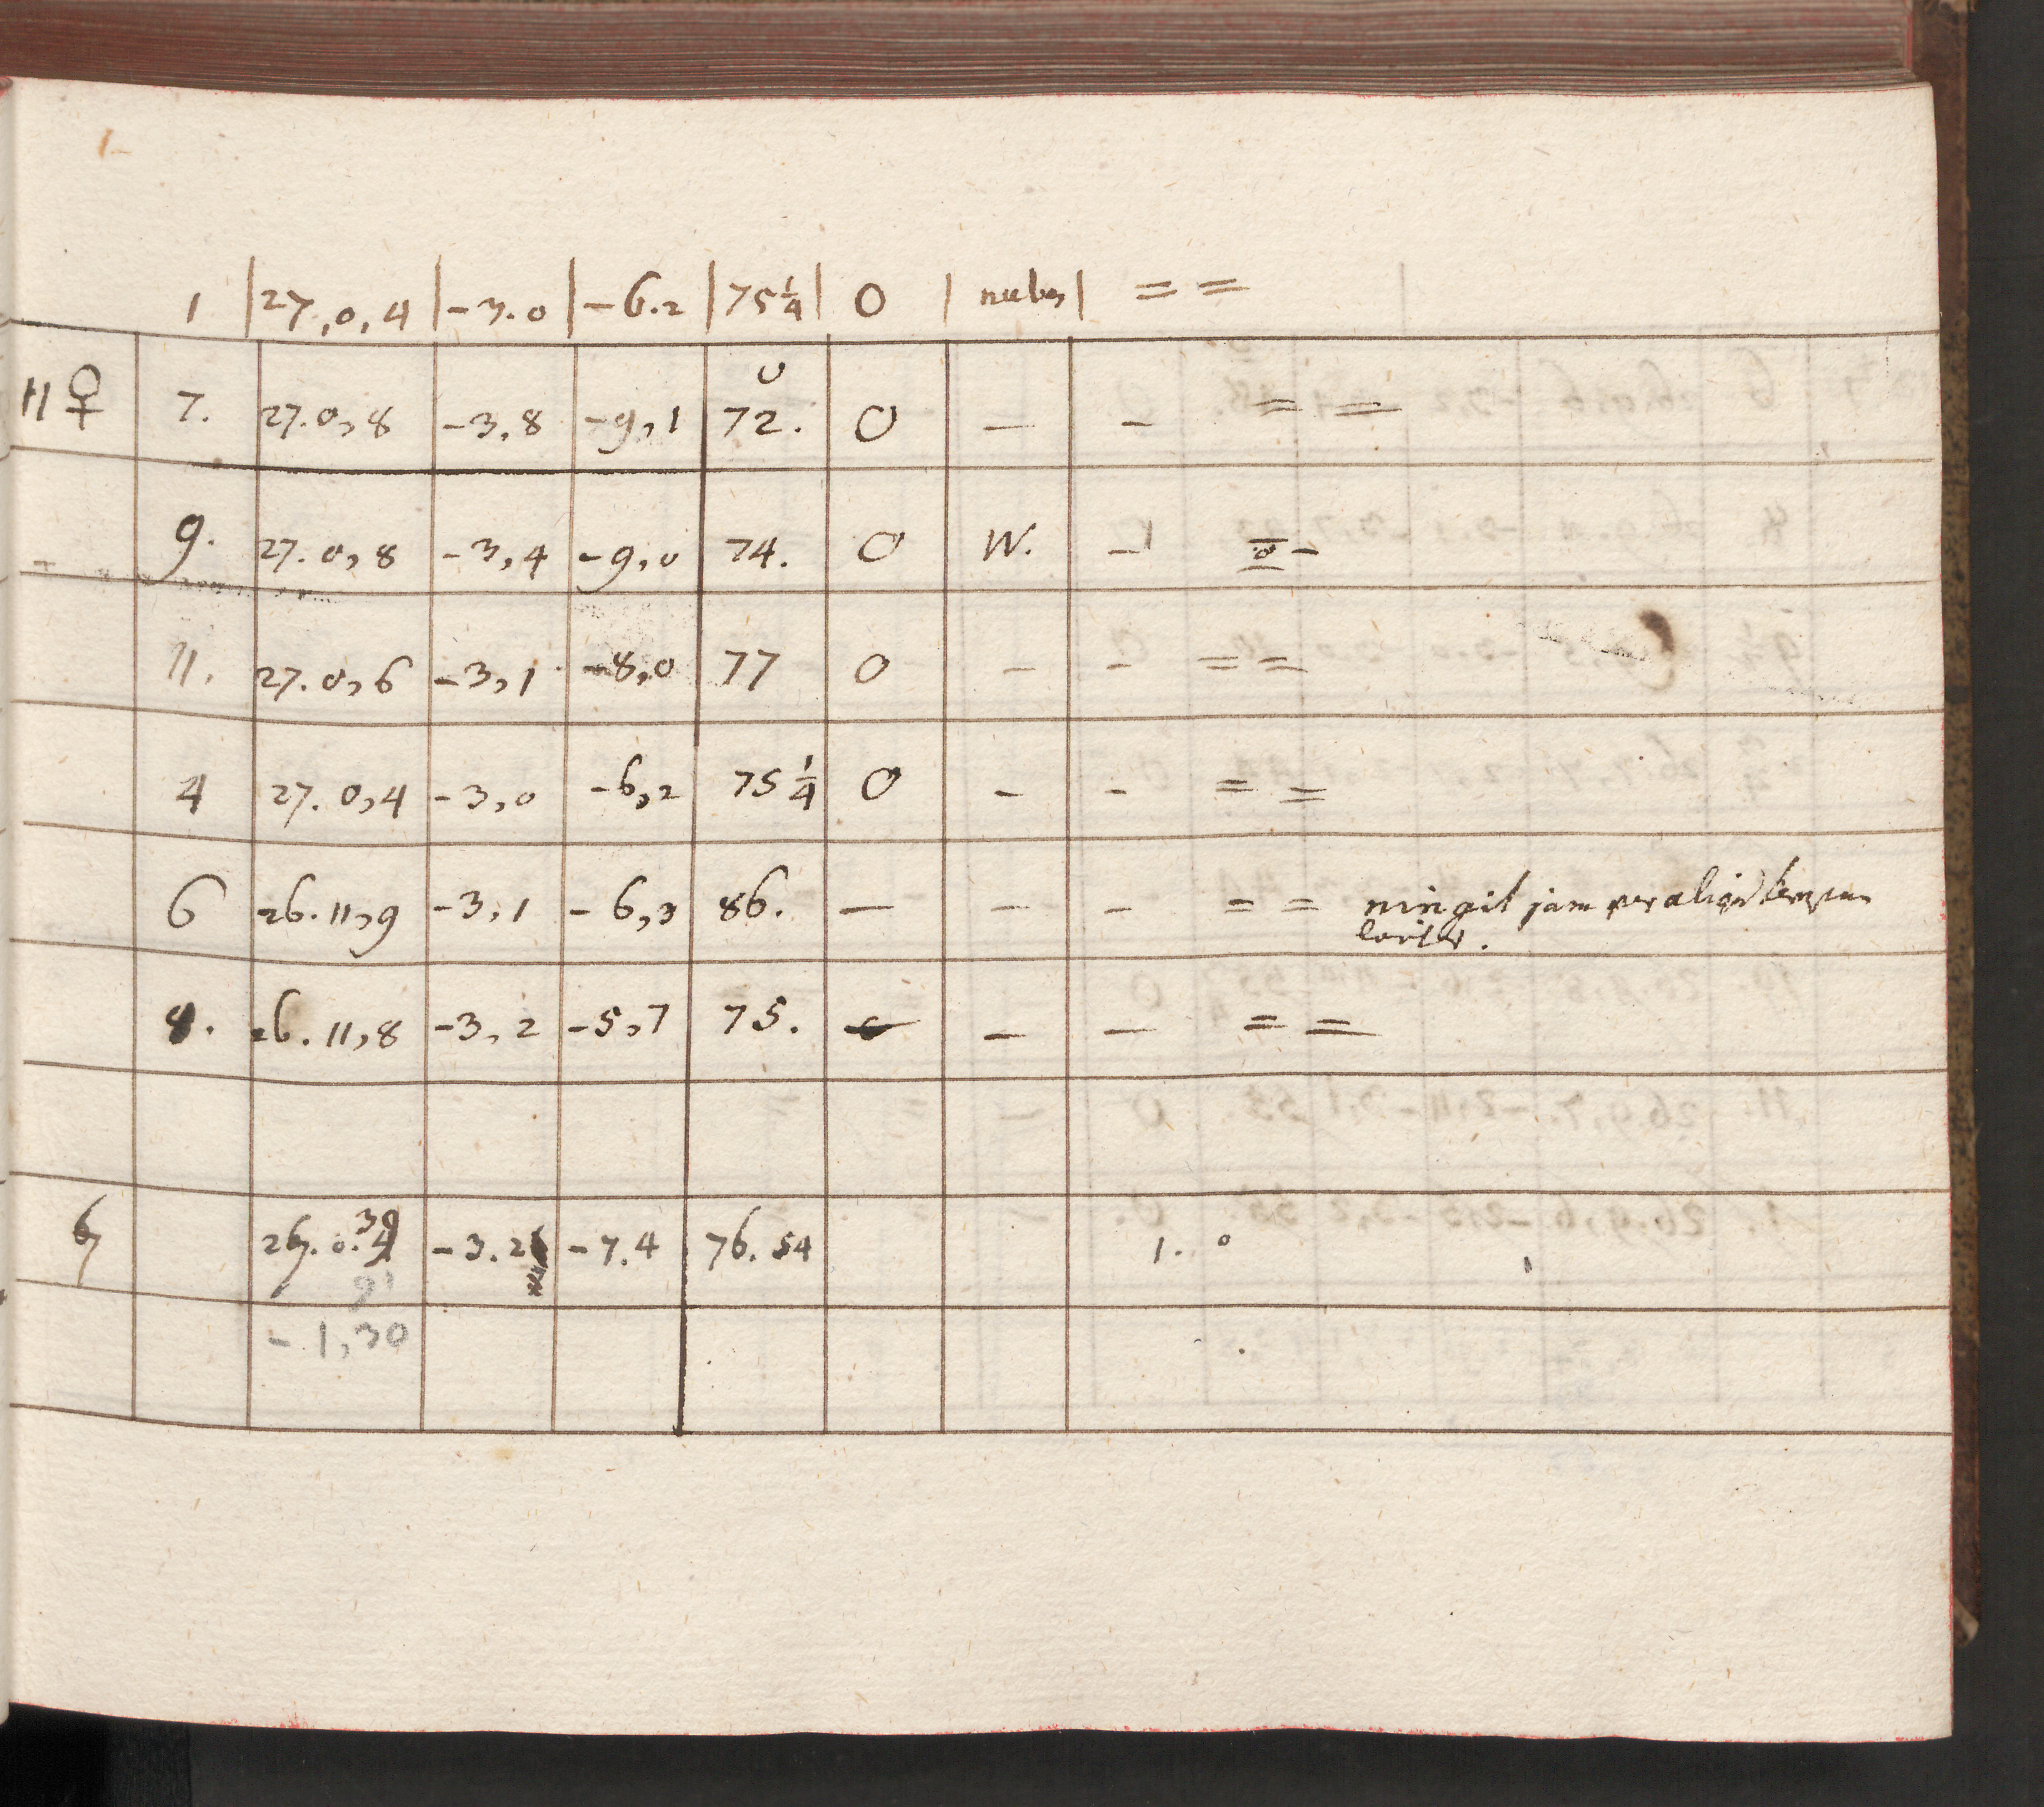bordered: (16, 323, 1941, 1434)
